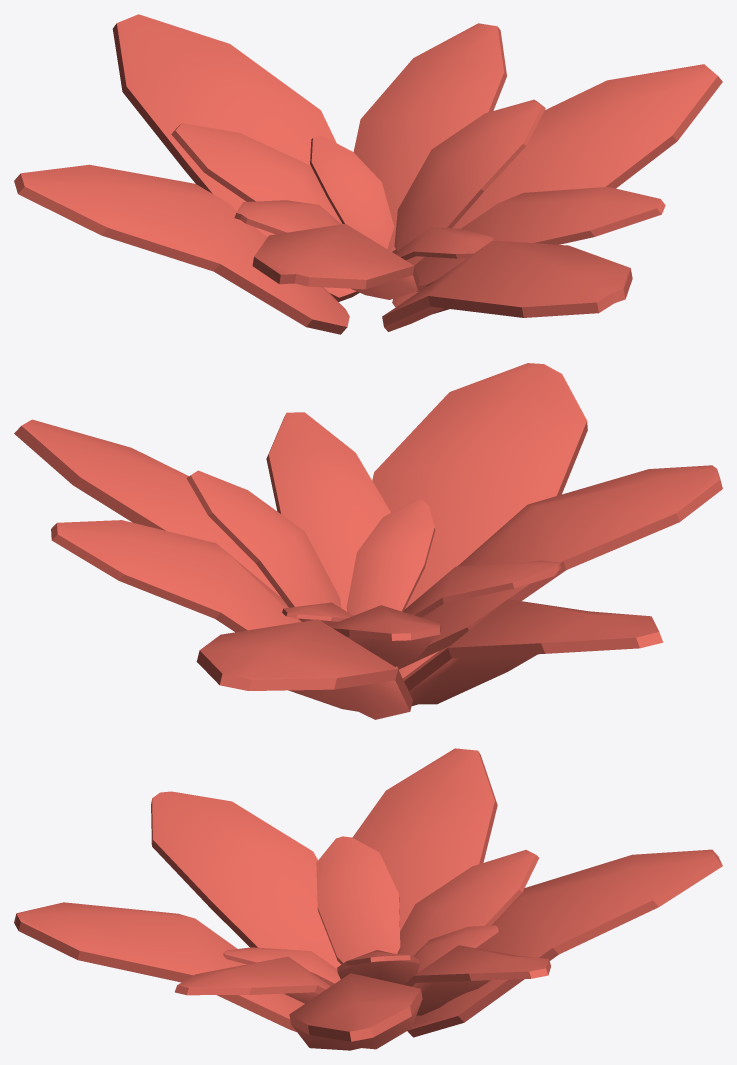
File: a_z3_flower_m.fbx
3 views of the same model, one above another, from view 1: azimuth 30°, elevation 25°; view 2: azimuth 150°, elevation 25°; view 3: azimuth 270°, elevation 25° (orthographic). The views are drawn at different scales.
Visible parts, largest first — view 1: a_z3_flower_m; view 2: a_z3_flower_m; view 3: a_z3_flower_m.
Part boxes in pixels (x1,y1,x2,y2): a_z3_flower_m: [14, 14, 722, 334]; a_z3_flower_m: [14, 363, 722, 719]; a_z3_flower_m: [14, 748, 722, 1050].
Bounding box in the file's own units: 129 × 34 × 135.
